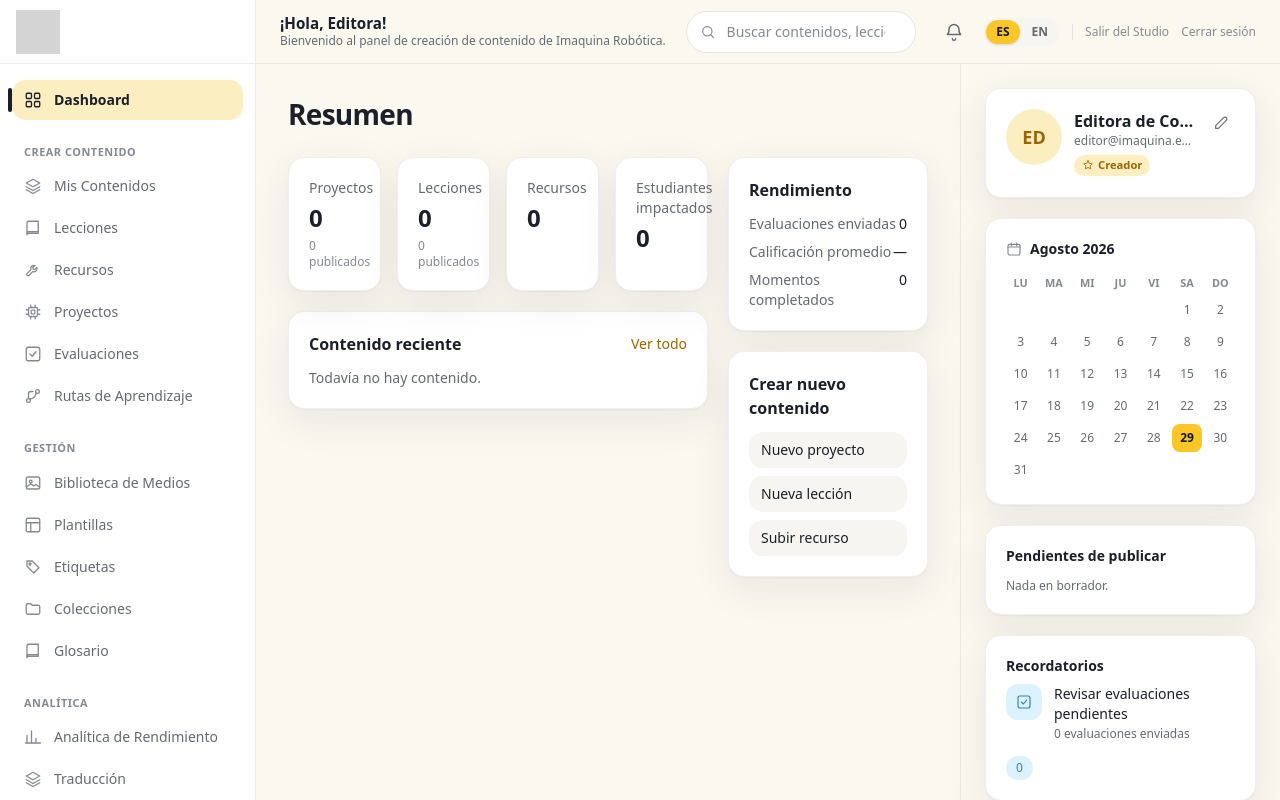
Content Studio › navega a Lecciones y muestra su estado vacío
This screenshot has width=1280, height=800.
Click the link "Lecciones".
click(71, 228)  # box x1=24 y1=218 x2=118 y2=237
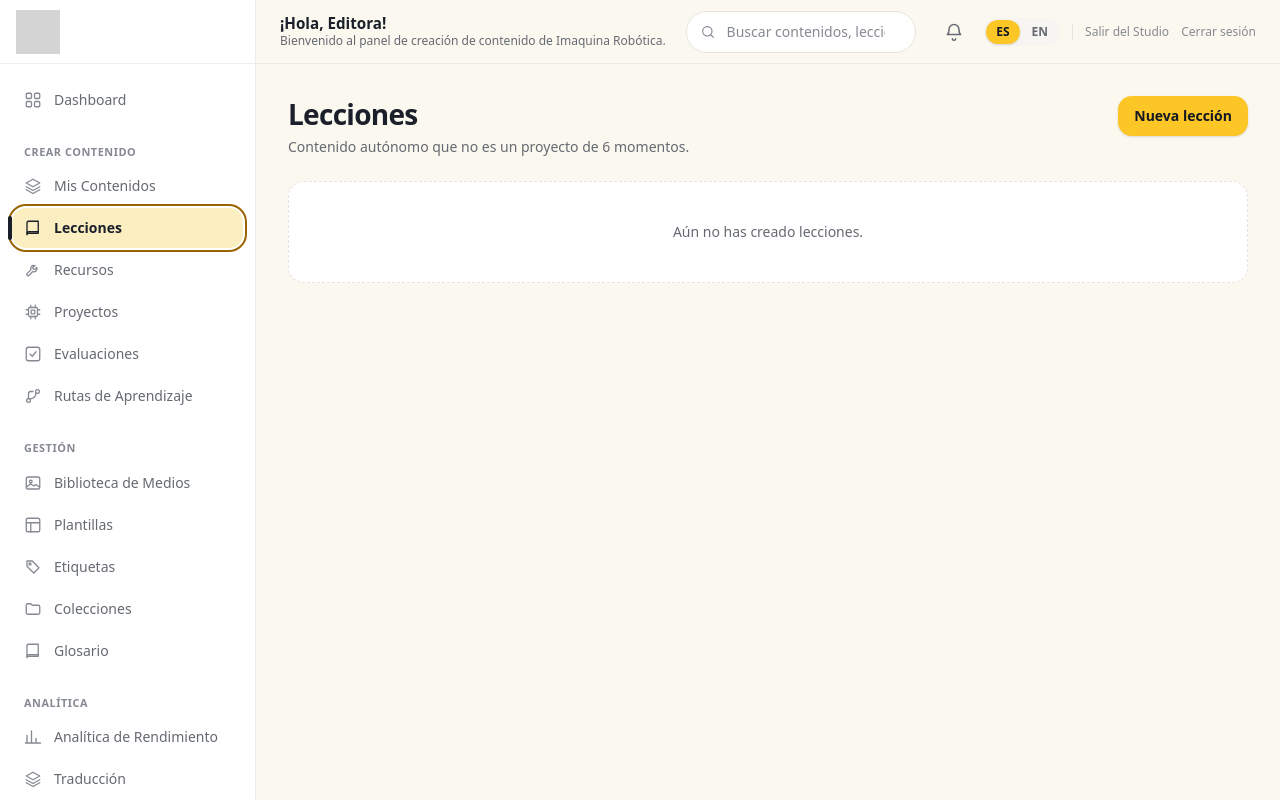
Check: the text "Aún no has creado lecciones." is shown, box x1=288 y1=181 x2=1248 y2=283
